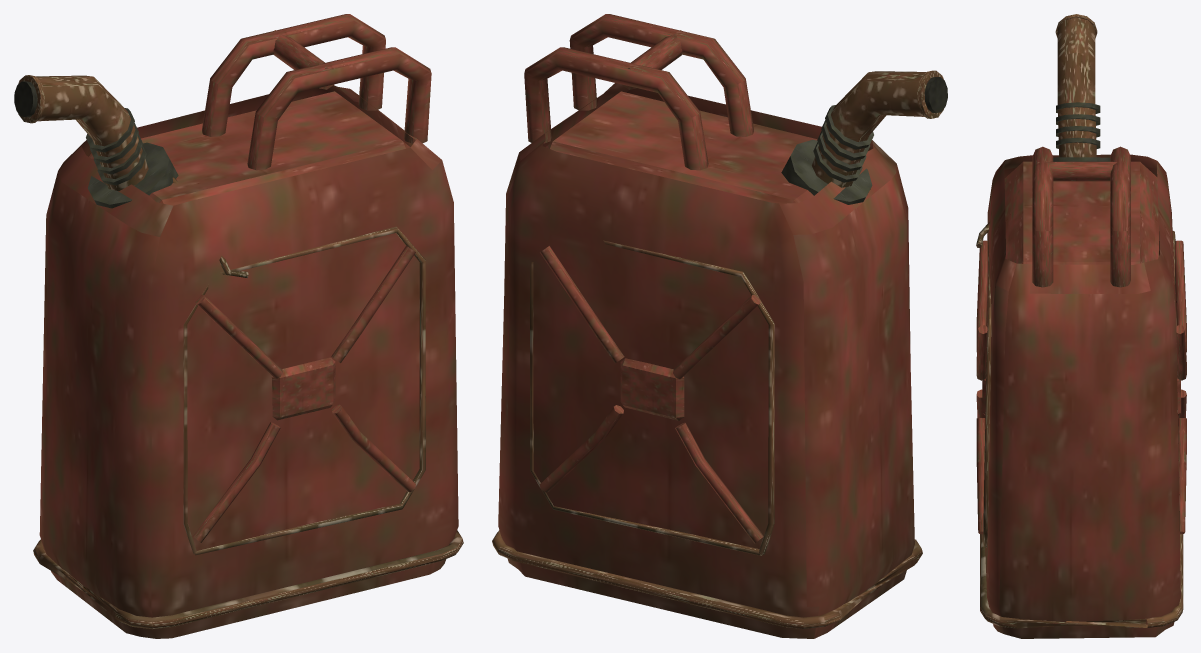
The model's file is nb_fuel_can.glb.
3 renders of one model, left to right at view 1: azimuth 30°, elevation 25°; view 2: azimuth 150°, elevation 25°; view 3: azimuth 270°, elevation 25°, orthographic. The views are drawn at different scales.
Parts seen in each view (by area): view 1: Abandoned_Oxidized_Red_Fuel_Can_Body; view 2: Abandoned_Oxidized_Red_Fuel_Can_Body; view 3: Abandoned_Oxidized_Red_Fuel_Can_Body.
Boxes of the visible parts, x1=… form: Abandoned_Oxidized_Red_Fuel_Can_Body: x1=14, y1=14, x2=463, y2=638; Abandoned_Oxidized_Red_Fuel_Can_Body: x1=492, y1=14, x2=947, y2=638; Abandoned_Oxidized_Red_Fuel_Can_Body: x1=976, y1=14, x2=1186, y2=638.
Bounding box in the file's own units: 0.4594 × 0.5974 × 0.2442.
1 material, 1 textured.
